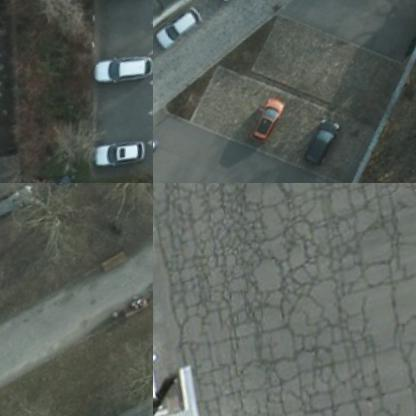car: (88, 50, 152, 97), (92, 134, 152, 177), (248, 96, 292, 152), (155, 15, 204, 53), (302, 122, 342, 168), (0, 184, 42, 225), (153, 332, 166, 414), (100, 0, 152, 14)
van: (153, 135, 168, 182)
